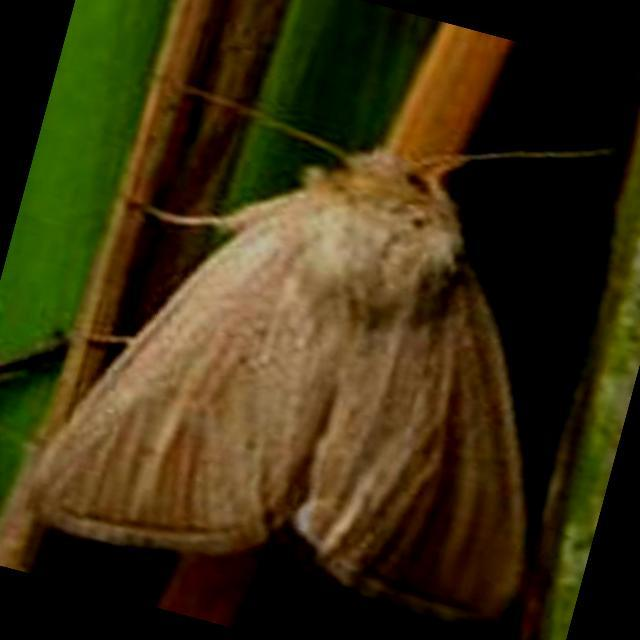stem borer: (4, 84, 611, 618)
